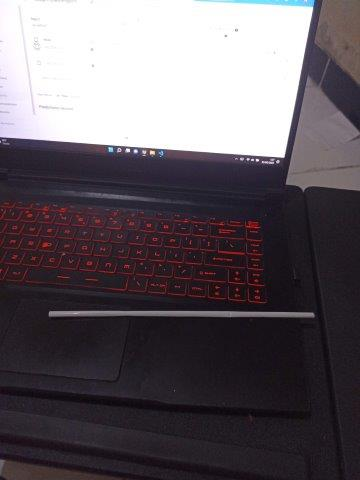sedotan: (49, 310, 315, 319)
